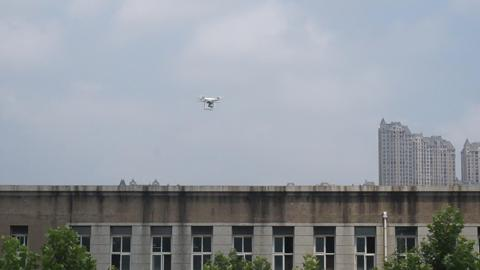UAV: (195, 96, 223, 110)
